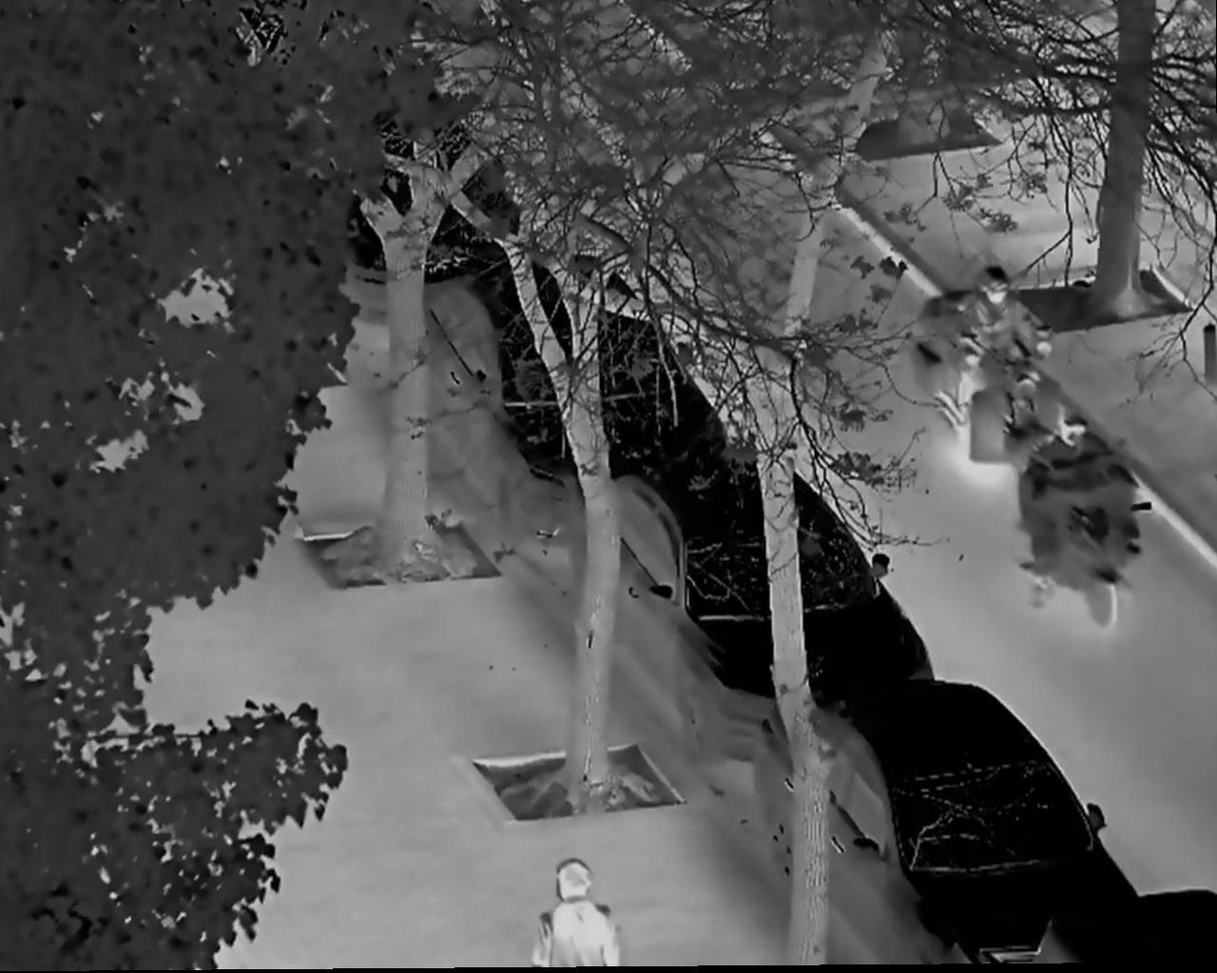person: (955, 267, 1045, 422), (1042, 413, 1123, 563), (529, 859, 624, 968)
